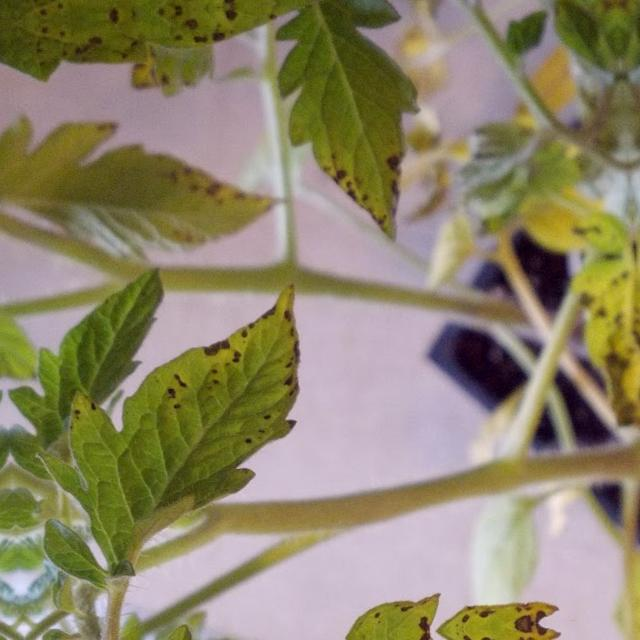Tomato Septoria leaf spot: (40, 259, 325, 598), (269, 0, 459, 262), (0, 0, 397, 100), (257, 567, 637, 640), (555, 235, 640, 451)
